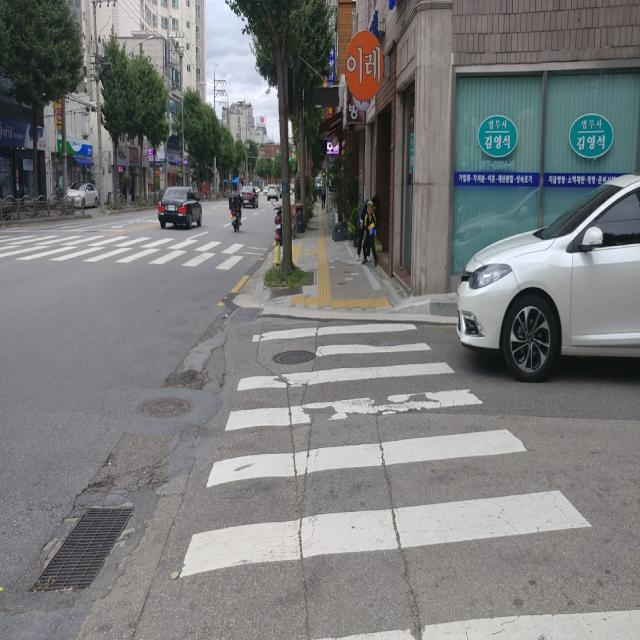횡단보도: (178, 322, 640, 639), (5, 230, 248, 272)
